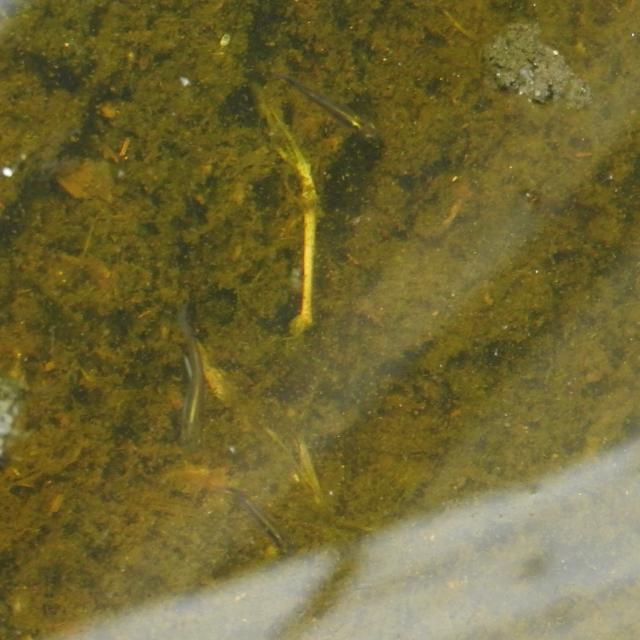Sivrisinek Baligi: (292, 68, 397, 171), (159, 320, 213, 463)
